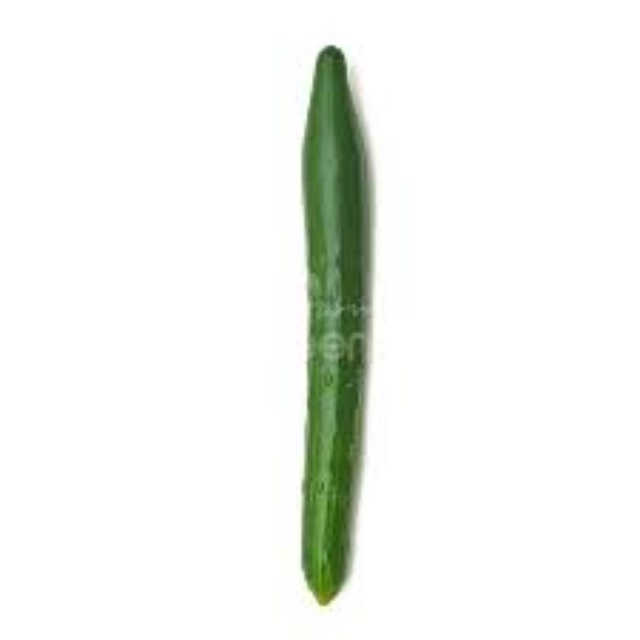dua_leo: (287, 44, 379, 606)
